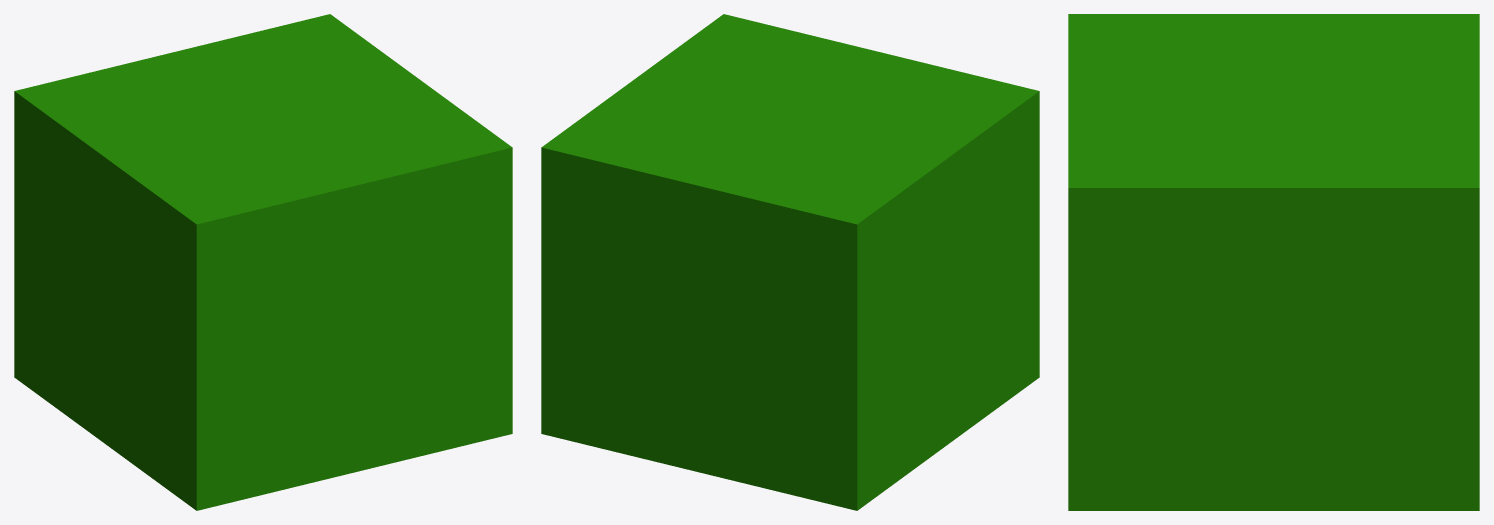
Rendered from bush.gltf.
3 renders of one model, left to right at view 1: azimuth 30°, elevation 25°; view 2: azimuth 150°, elevation 25°; view 3: azimuth 270°, elevation 25°, orthographic. The views are drawn at different scales.
Parts seen in each view (by area): view 1: Layer.1; view 2: Layer.1; view 3: Layer.1.
Boxes of the visible parts, <box> form: Layer.1: <box>14,14,512,510</box>; Layer.1: <box>541,14,1039,510</box>; Layer.1: <box>1068,14,1479,510</box>.
Size of the model in its own units: 15 by 13 by 15.
Materials: 1 (1 with a texture image).
